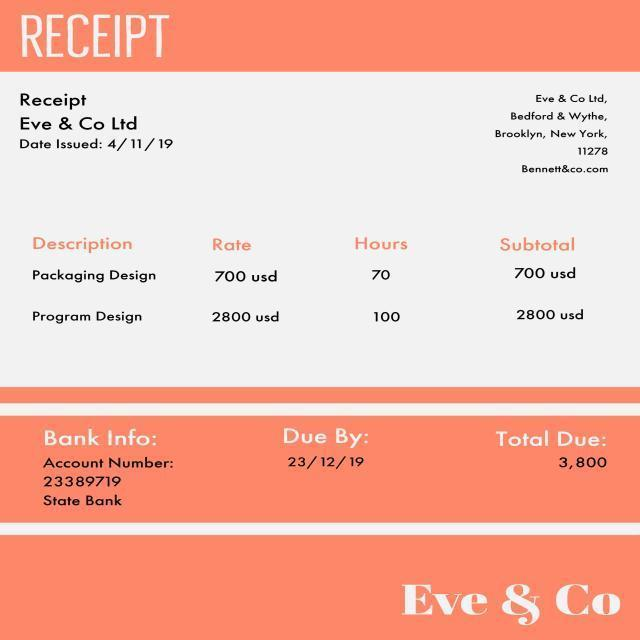ROI: (13, 220, 600, 349), (392, 568, 632, 633), (29, 420, 182, 515), (486, 85, 620, 183), (15, 83, 181, 156), (13, 6, 176, 65), (490, 416, 614, 483), (270, 416, 378, 479)
